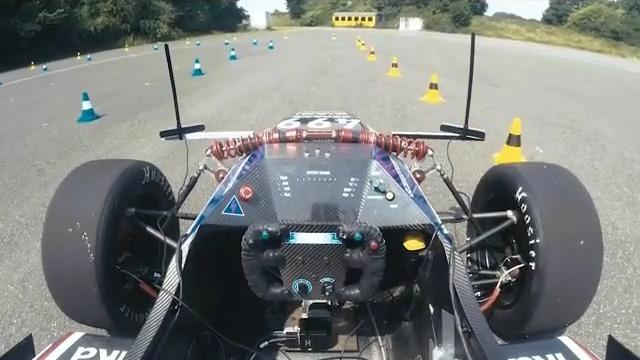blue_cone: (74, 90, 102, 125), (191, 57, 206, 77), (229, 47, 239, 61), (268, 39, 276, 51)
yellow_cone: (491, 116, 529, 167), (422, 72, 445, 104), (388, 56, 402, 77), (367, 45, 378, 61)
